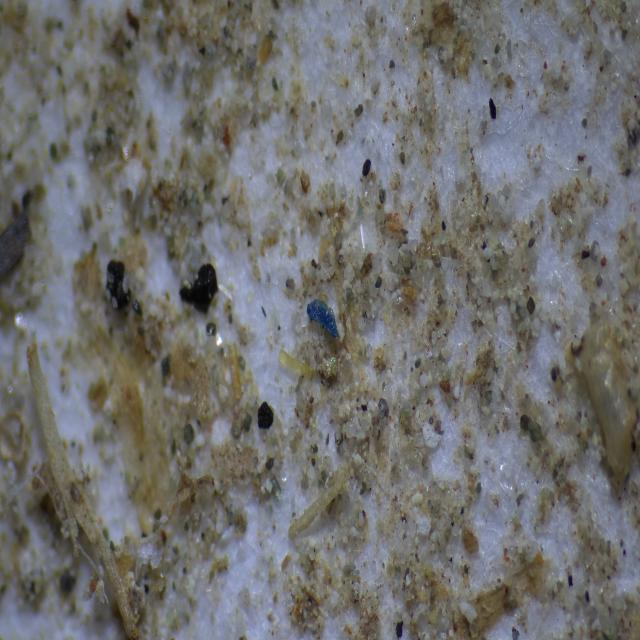microplastic: (293, 288, 352, 362)
